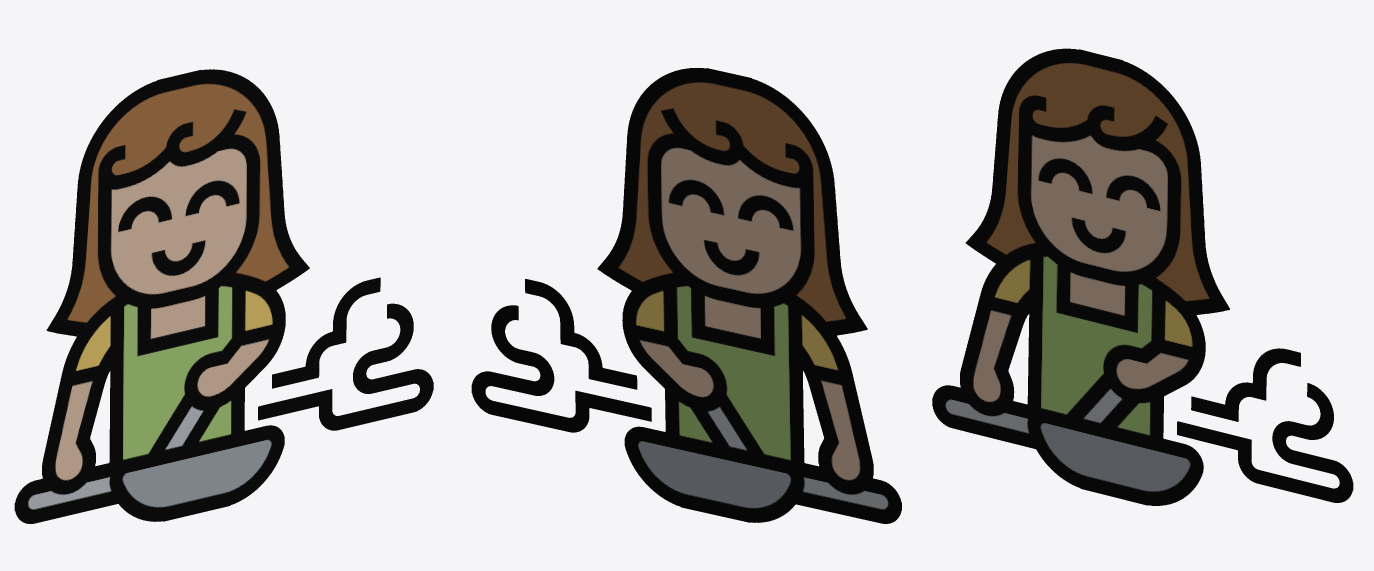
File: cooking.fbx
The picture shows the model from 3 angles, left to right: view 1: azimuth 30°, elevation 25°; view 2: azimuth 150°, elevation 25°; view 3: azimuth 330°, elevation 25°; orthographic projection. The views are drawn at different scales.
Parts seen in each view (by area): view 1: cooking; view 2: cooking; view 3: cooking.
Part boxes in pixels (x1,y1,x2,y2): cooking: (14, 69, 433, 523); cooking: (471, 68, 901, 523); cooking: (932, 48, 1353, 505).
Size of the model in its own units: 2648 by 2649 by 52.08.
1 material, 1 textured.
